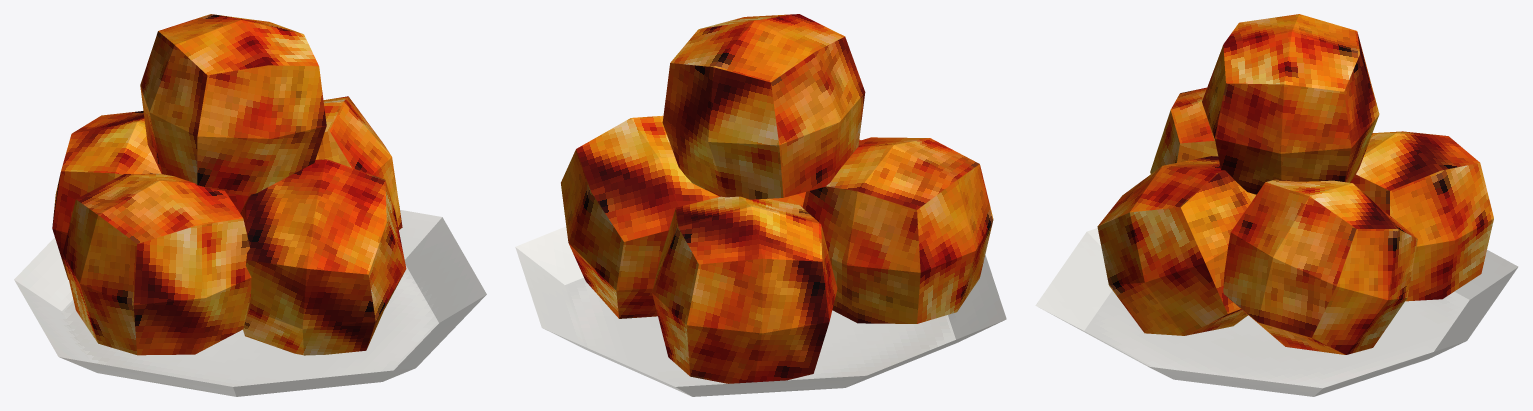
File: BomblePlate2.glb
The picture shows the model from 3 angles, left to right: view 1: azimuth 30°, elevation 25°; view 2: azimuth 150°, elevation 25°; view 3: azimuth 270°, elevation 25°; orthographic projection. The views are drawn at different scales.
Parts seen in each view (by area): view 1: Bomble.027, Bomble.026, Plate.014, Bomble.024, Bomble.023, Bomble.025; view 2: Bomble.026, Bomble.023, Bomble.027, Plate.014, Bomble.025; view 3: Bomble.025, Plate.014, Bomble.026, Bomble.024, Bomble.023, Bomble.027.
Boxes of the visible parts, x1,y1,x2,y2 form: Bomble.027: (62,173,251,355); Bomble.026: (140,14,326,196); Plate.014: (14,210,486,396); Bomble.024: (240,159,406,355); Bomble.023: (52,111,160,279); Bomble.025: (227,96,402,229); Bomble.026: (662,14,865,199); Bomble.023: (652,196,837,383); Bomble.027: (802,137,993,323); Plate.014: (515,226,1006,396); Bomble.025: (561,115,719,318); Bomble.025: (1223,179,1417,354); Plate.014: (1035,228,1518,396); Bomble.026: (1202,14,1379,194); Bomble.024: (1097,156,1256,335); Bomble.023: (1350,131,1493,301); Bomble.027: (1150,87,1218,173).
Bounding box in the file's own units: 2.63 × 1.73 × 2.63.
Materials: 2 (2 with a texture image).
